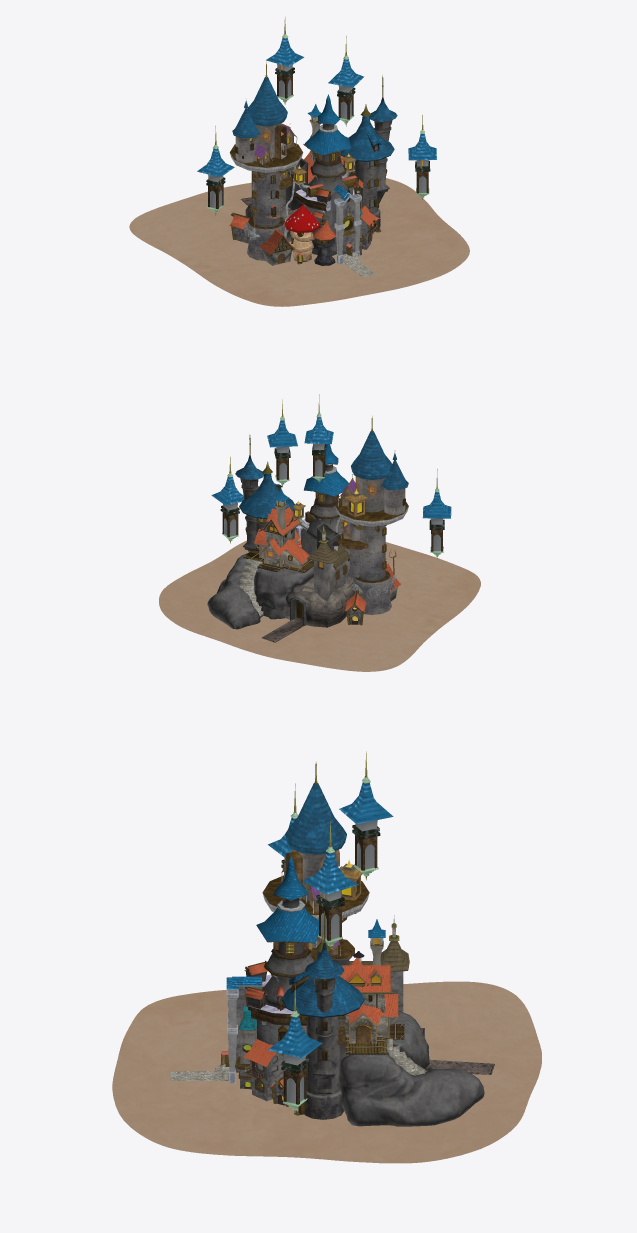
File: wizard-tower.glb
3 renders of one model, top to bottom at view 1: azimuth 30°, elevation 25°; view 2: azimuth 150°, elevation 25°; view 3: azimuth 270°, elevation 25°, orthographic. The views are drawn at different scales.
Visible parts, largest first — view 1: Suelo_Suelo_MAT_0, polySurface196_Torre_Izquierda_MAT_0, polySurface178_Torres_Flotantes_MAT_0, polySurface181_Torre_Derecha_MAT_0, polySurface238_Torre_Central_MAT_0, polySurface9_Torre_Entrada_MAT_0, Torre_Champi_Izquierda_Torre_Champi_MAT_0, pCube189_Arcos_Torres_Flotantes_MAT_0, pCylinder63_Entrada_Torre_Izq_MAT_0, pCube11_Mini_Torre_Izquierda_MAT_0, pCube21_Casas_Basicas_MAT_0, pCube92_Casas_Torre_Izq_MAT_0 (+1 smaller); view 2: Suelo_Suelo_MAT_0, polySurface196_Torre_Izquierda_MAT_0, Roca_Bajo_Casa_low_Rocas_Traseras_MAT_0, polySurface178_Torres_Flotantes_MAT_0, polySurface172_Entrada_Trasera_MAT_0, polySurface238_Torre_Central_MAT_0, polySurface181_Torre_Derecha_MAT_0, polySurface277_Torre_Entera_Trasera_MAT_0, polySurface298_Casa_Base_Trasera_MAT_0, polySurface263_Segundo_Piso_Casa_Trasera_MAT_0, pCube189_Arcos_Torres_Flotantes_MAT_0, Escaleras_Escaleras_Traseras_MAT_0 (+3 smaller); view 3: Suelo_Suelo_MAT_0, Roca_Bajo_Casa_low_Rocas_Traseras_MAT_0, polySurface181_Torre_Derecha_MAT_0, polySurface178_Torres_Flotantes_MAT_0, polySurface238_Torre_Central_MAT_0, polySurface196_Torre_Izquierda_MAT_0, polySurface9_Torre_Entrada_MAT_0, polySurface263_Segundo_Piso_Casa_Trasera_MAT_0, polySurface298_Casa_Base_Trasera_MAT_0, Casa_Torre_Completa_CasaTorre_Derecha_MAT_0, polySurface277_Torre_Entera_Trasera_MAT_0, pCube189_Arcos_Torres_Flotantes_MAT_0 (+4 smaller).
Boxes of the visible parts, x1,y1,x2,y2 form: Suelo_Suelo_MAT_0: (129,178,469,306); polySurface196_Torre_Izquierda_MAT_0: (229,62,303,260); polySurface178_Torres_Flotantes_MAT_0: (197,17,436,215); polySurface181_Torre_Derecha_MAT_0: (340,75,397,232); polySurface238_Torre_Central_MAT_0: (293,94,362,255); polySurface9_Torre_Entrada_MAT_0: (331,185,375,277); Torre_Champi_Izquierda_Torre_Champi_MAT_0: (284,205,320,261); pCube189_Arcos_Torres_Flotantes_MAT_0: (208,74,428,209); pCylinder63_Entrada_Torre_Izq_MAT_0: (259,228,295,265); pCube11_Mini_Torre_Izquierda_MAT_0: (313,220,335,265); pCube21_Casas_Basicas_MAT_0: (229,210,377,243); pCube92_Casas_Torre_Izq_MAT_0: (254,123,297,180); Suelo_Suelo_MAT_0: (159,537,480,671); polySurface196_Torre_Izquierda_MAT_0: (335,416,408,614); Roca_Bajo_Casa_low_Rocas_Traseras_MAT_0: (207,553,313,629); polySurface178_Torres_Flotantes_MAT_0: (211,394,451,558); polySurface172_Entrada_Trasera_MAT_0: (261,575,355,642); polySurface238_Torre_Central_MAT_0: (295,444,349,576); polySurface181_Torre_Derecha_MAT_0: (235,434,294,552); polySurface277_Torre_Entera_Trasera_MAT_0: (307,526,350,600); polySurface298_Casa_Base_Trasera_MAT_0: (254,529,309,569); polySurface263_Segundo_Piso_Casa_Trasera_MAT_0: (261,488,300,547); pCube189_Arcos_Torres_Flotantes_MAT_0: (222,455,442,551); Escaleras_Escaleras_Traseras_MAT_0: (240,558,263,618); Suelo_Suelo_MAT_0: (112,981,541,1163); Roca_Bajo_Casa_low_Rocas_Traseras_MAT_0: (339,1011,484,1126); polySurface181_Torre_Derecha_MAT_0: (281,911,364,1119); polySurface178_Torres_Flotantes_MAT_0: (268,751,393,1114); polySurface238_Torre_Central_MAT_0: (248,856,318,1045); polySurface196_Torre_Izquierda_MAT_0: (262,761,369,961); polySurface9_Torre_Entrada_MAT_0: (170,976,262,1083); polySurface263_Segundo_Piso_Casa_Trasera_MAT_0: (340,919,390,1012); polySurface298_Casa_Base_Trasera_MAT_0: (340,994,398,1045); Casa_Torre_Completa_CasaTorre_Derecha_MAT_0: (244,1039,284,1101); polySurface277_Torre_Entera_Trasera_MAT_0: (349,915,409,1011); pCube189_Arcos_Torres_Flotantes_MAT_0: (283,835,377,1104).
Bounding box in the file's own units: 1.9 × 1.01 × 1.72.
34 materials, 34 textured.
